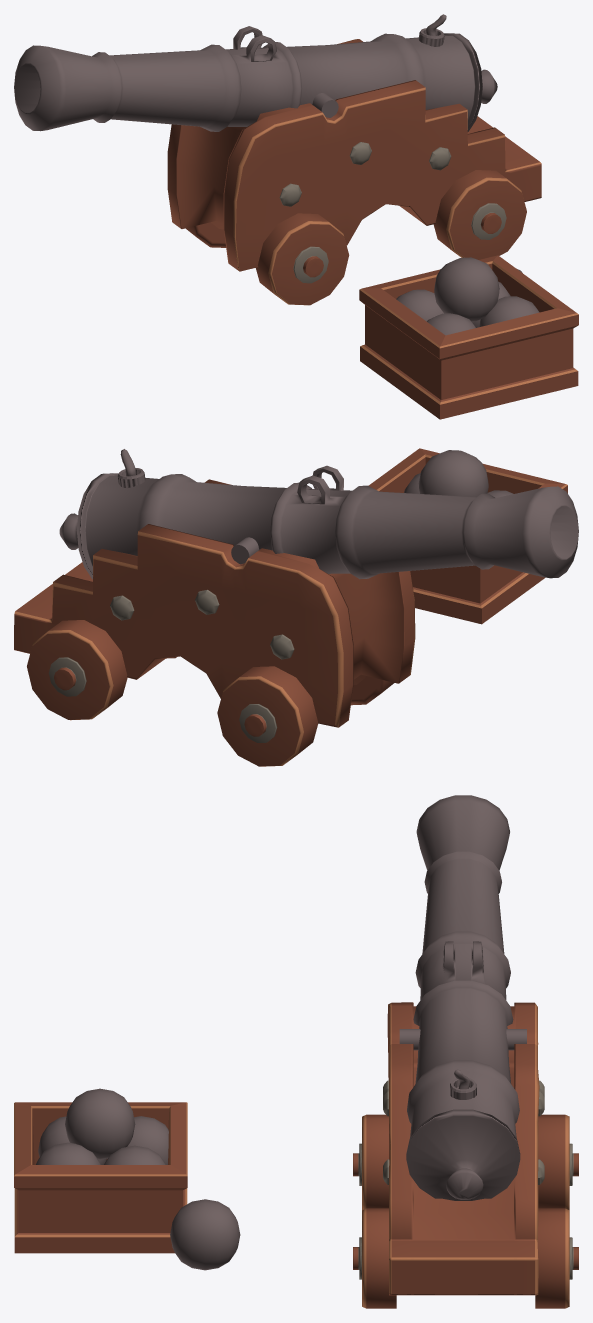
The model's file is Cannon.fbx.
3 views of the same model, one above another, from view 1: azimuth 30°, elevation 25°; view 2: azimuth 150°, elevation 25°; view 3: azimuth 270°, elevation 25° (orthographic). The views are drawn at different scales.
Visible parts, largest first — view 1: wood, Cylinder006, Cube, Cylinder, Cube.004, Cylinder.003; view 2: wood, Cylinder006, Cylinder, Cube, Cube.004, Cylinder.003, Cylinder006.001; view 3: Cylinder006, wood, Cube, Cylinder, Cube.004, Cube.006, Cylinder006.001, Cylinder.003.
Boxes of the visible parts, left/top/right/bottom form: wood: left=167, top=39, right=541, bottom=271; Cylinder006: left=14, top=14, right=497, bottom=131; Cube: left=359, top=255, right=578, bottom=419; Cylinder: left=185, top=170, right=526, bottom=305; Cube.004: left=396, top=257, right=539, bottom=335; Cylinder.003: left=279, top=142, right=451, bottom=206; wood: left=14, top=479, right=415, bottom=727; Cylinder006: left=59, top=449, right=578, bottom=579; Cylinder: left=27, top=620, right=394, bottom=766; Cube: left=368, top=448, right=567, bottom=624; Cube.004: left=404, top=450, right=513, bottom=497; Cylinder.003: left=110, top=589, right=294, bottom=659; Cylinder006.001: left=231, top=537, right=259, bottom=564; Cylinder006: left=406, top=795, right=520, bottom=1200; wood: left=387, top=1002, right=539, bottom=1295; Cube: left=14, top=1102, right=187, bottom=1253; Cylinder: left=353, top=1114, right=578, bottom=1308; Cube.004: left=36, top=1088, right=168, bottom=1164; Cube.006: left=170, top=1199, right=240, bottom=1270; Cylinder006.001: left=399, top=1029, right=526, bottom=1050; Cylinder.003: left=383, top=1080, right=544, bottom=1184.
Size of the model in its own units: 149 by 81.43 by 139.
